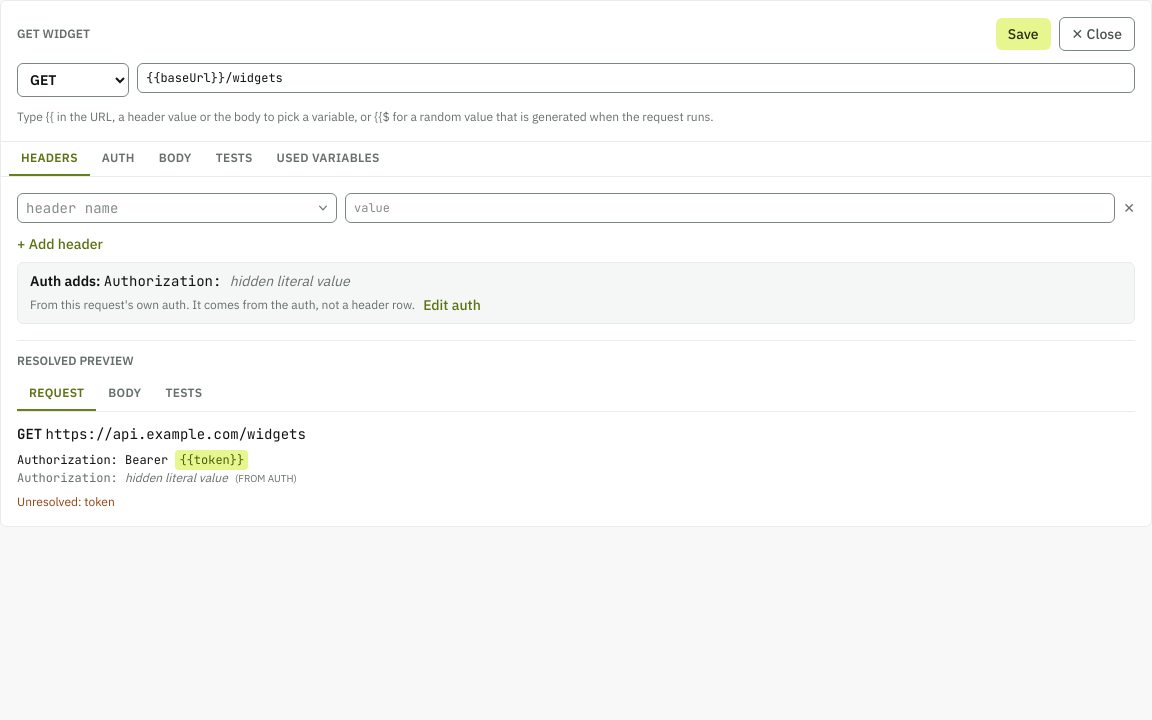
Test case: RequestEditorPanel — editing the request's own auth (FR-002c) › opens the Auth tab from the Headers note, and shows a hidden literal as hidden in the note and preview
Expected: the text "hidden literal value" is shown 2 times, [230, 272, 350, 290]; [125, 470, 228, 485]
Click the button "Edit auth" at (452, 305), box [423, 295, 481, 315]
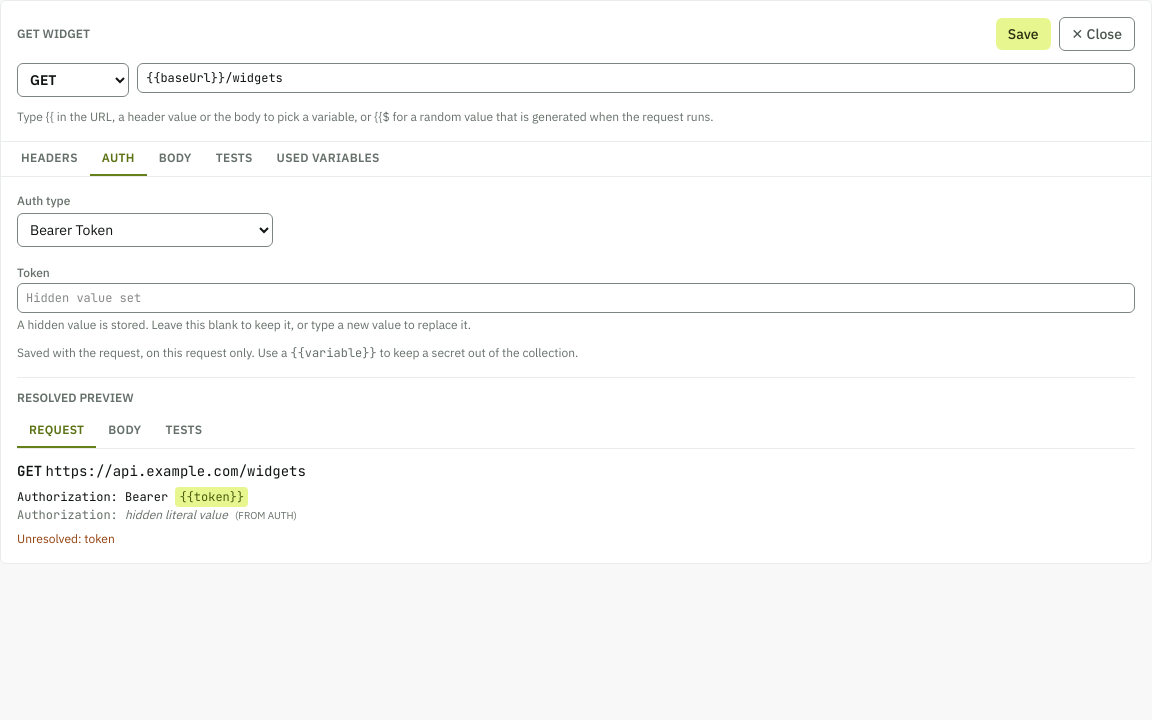
Expected: the dropdown labelled "Auth type" shows "Bearer Token", [17, 213, 273, 247]
Expected: the dropdown named "Token" is empty, [17, 283, 1135, 313]
Expected: the text "Leave this blank to keep it" is shown, [17, 317, 471, 332]
